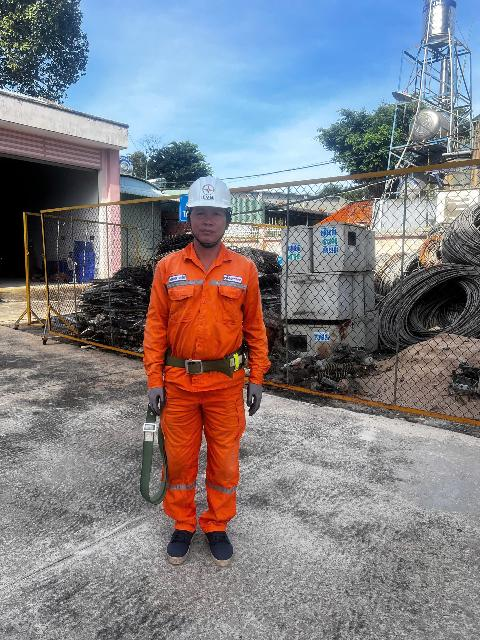gloves: (242, 379, 279, 422), (141, 367, 172, 418)
harness: (156, 345, 255, 377)
helmet: (181, 156, 243, 224)
shoes: (194, 508, 238, 566), (162, 522, 193, 567)
